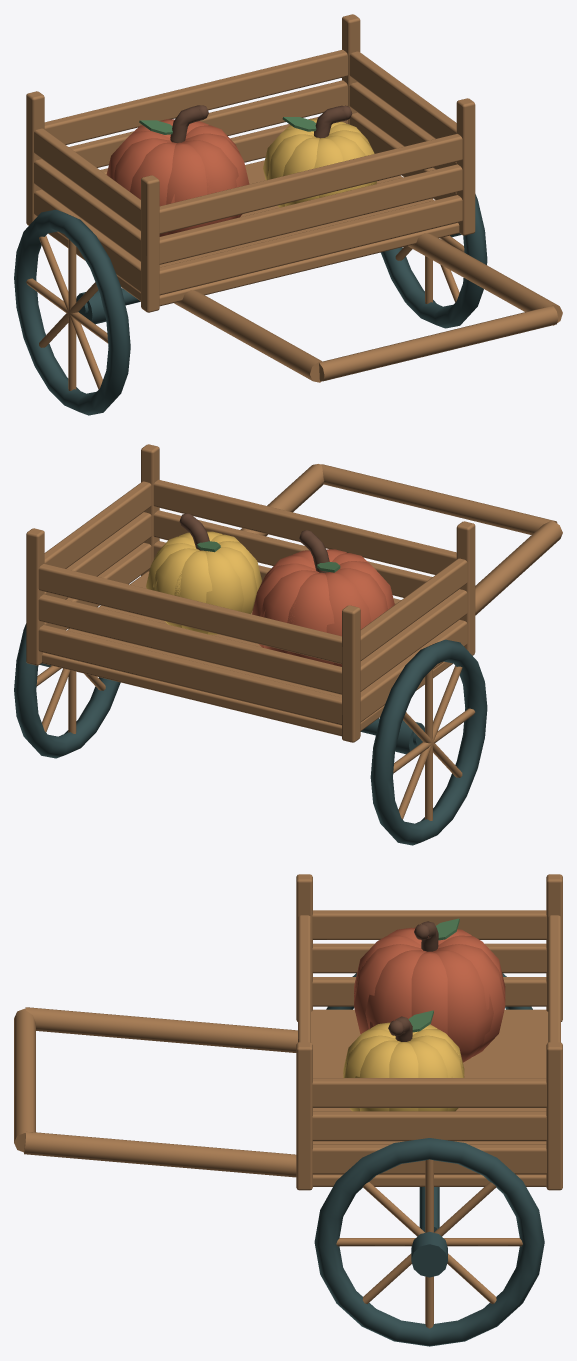
File: almanac-gardens-harvest-cart-0dc9bafc__22081.glb
3 renders of one model, top to bottom at view 1: azimuth 30°, elevation 25°; view 2: azimuth 150°, elevation 25°; view 3: azimuth 270°, elevation 25°, orthographic. The views are drawn at different scales.
Visible parts, largest first — view 1: harvest-cart-oak, harvest-cart-iron, harvest-cart-clay, harvest-cart-gold, harvest-cart-bark, harvest-cart-leaf; view 2: harvest-cart-oak, harvest-cart-iron, harvest-cart-clay, harvest-cart-gold, harvest-cart-bark; view 3: harvest-cart-oak, harvest-cart-iron, harvest-cart-clay, harvest-cart-gold, harvest-cart-bark, harvest-cart-leaf.
Boxes of the visible parts, x1,y1,x2,y2 form: harvest-cart-oak: (26,14,562,390); harvest-cart-iron: (14,194,487,415); harvest-cart-clay: (106,119,249,236); harvest-cart-gold: (263,119,376,207); harvest-cart-bark: (170,105,352,142); harvest-cart-leaf: (139,117,316,134); harvest-cart-oak: (26,444,562,820); harvest-cart-iron: (14,623,487,845); harvest-cart-clay: (252,549,394,666); harvest-cart-gold: (146,531,261,634); harvest-cart-bark: (179,513,329,572); harvest-cart-oak: (14,874,562,1328); harvest-cart-iron: (314,973,544,1346); harvest-cart-clay: (354,927,505,1062); harvest-cart-gold: (343,1022,464,1111); harvest-cart-bark: (388,921,438,1041); harvest-cart-leaf: (408,918,459,1032).
Size of the model in its own units: 1.37 by 0.898 by 1.49.
